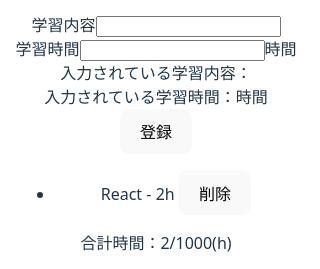
削除ボタンを押すと記録が削除される
Check: the list item "React - 2h 削除" is shown, box [101, 170, 251, 215]
Step 1. Click the button "削除" → (215, 193), box [179, 170, 251, 215]
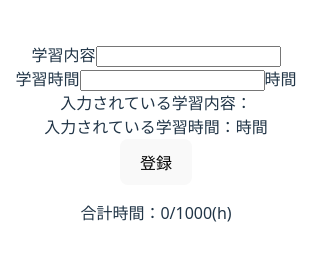
Check: the list item "React - 2h" is gone
